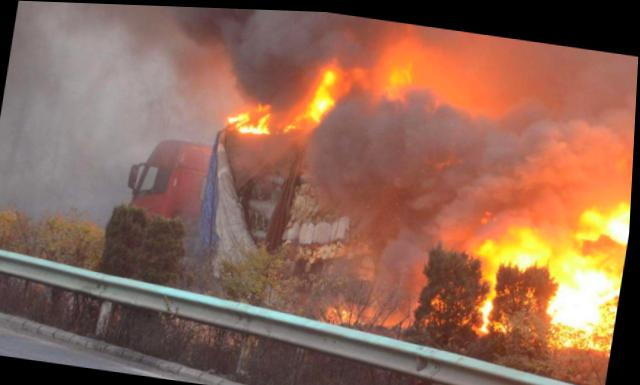fire: (465, 178, 632, 351), (222, 30, 423, 167)
